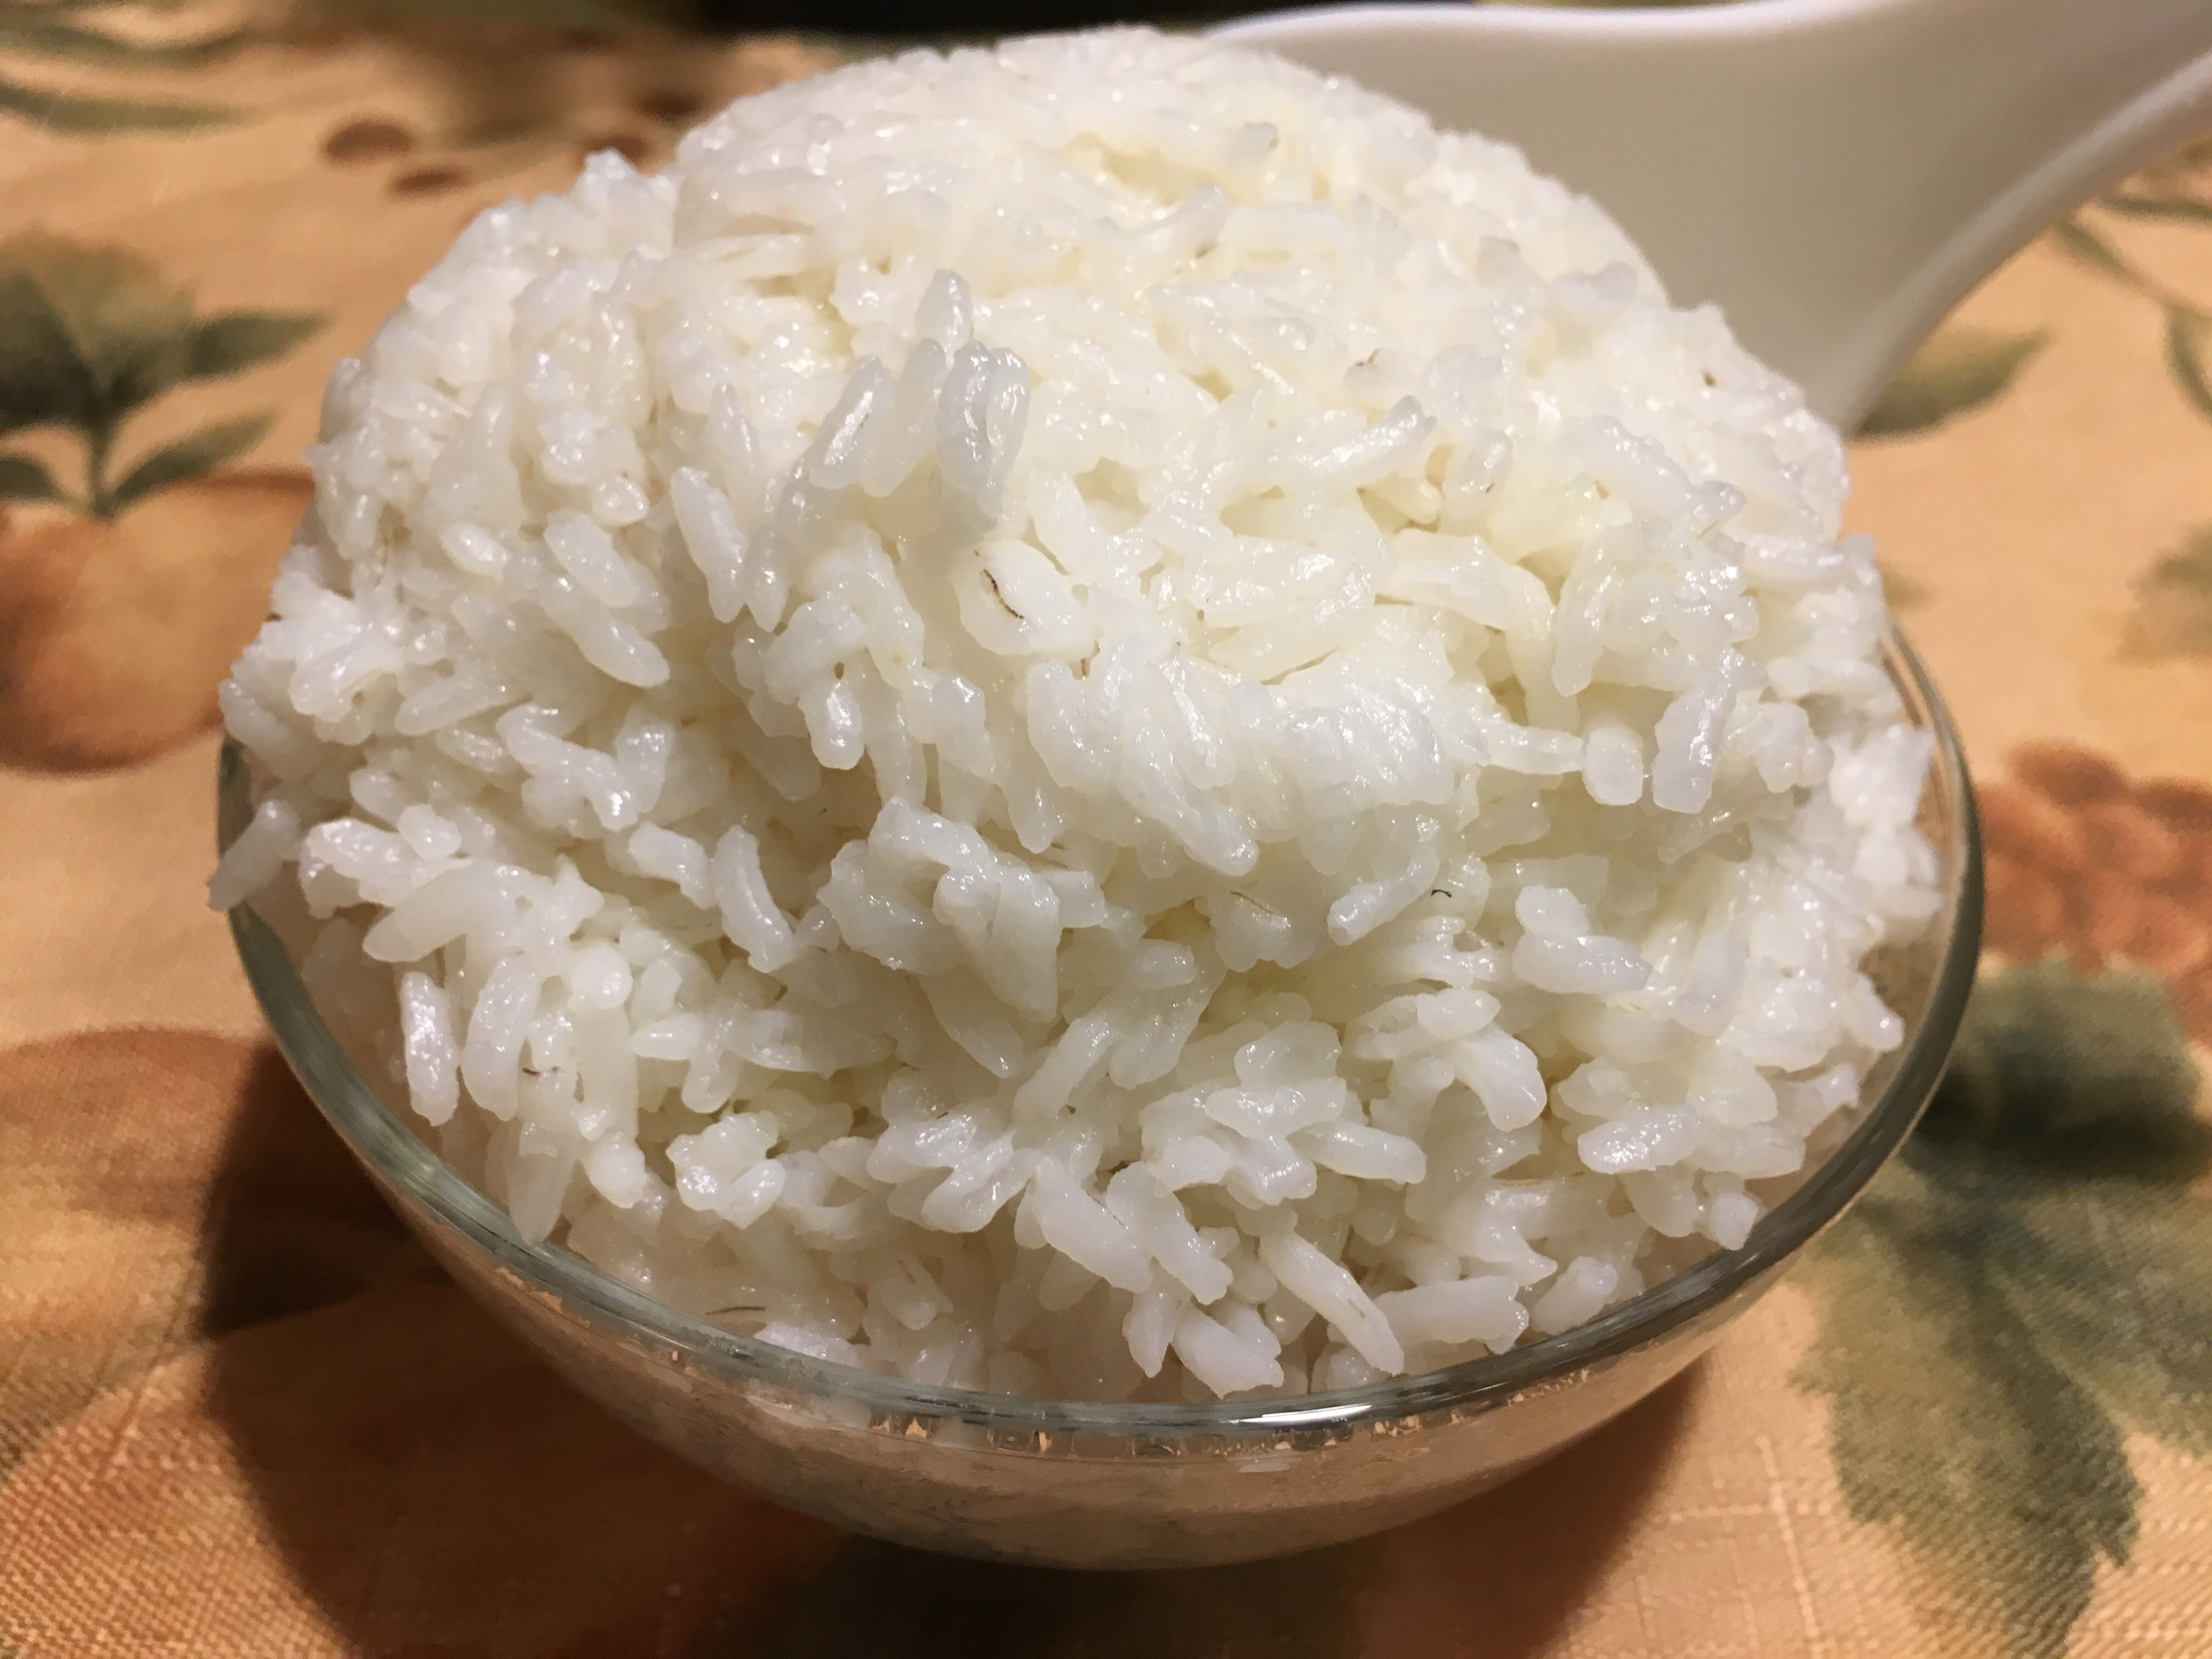rice: (176, 21, 2022, 1448)
